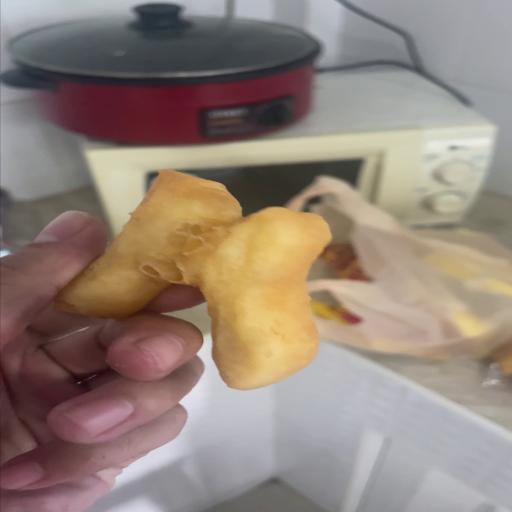street_golden_defect: (57, 170, 331, 388)
